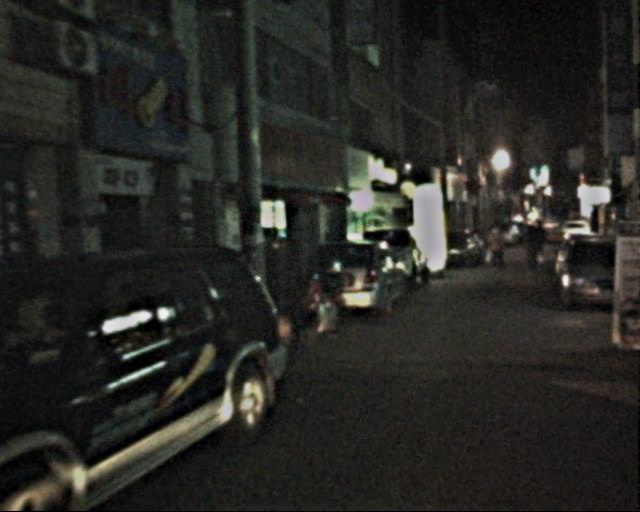person: (488, 220, 518, 281), (523, 223, 550, 272)
